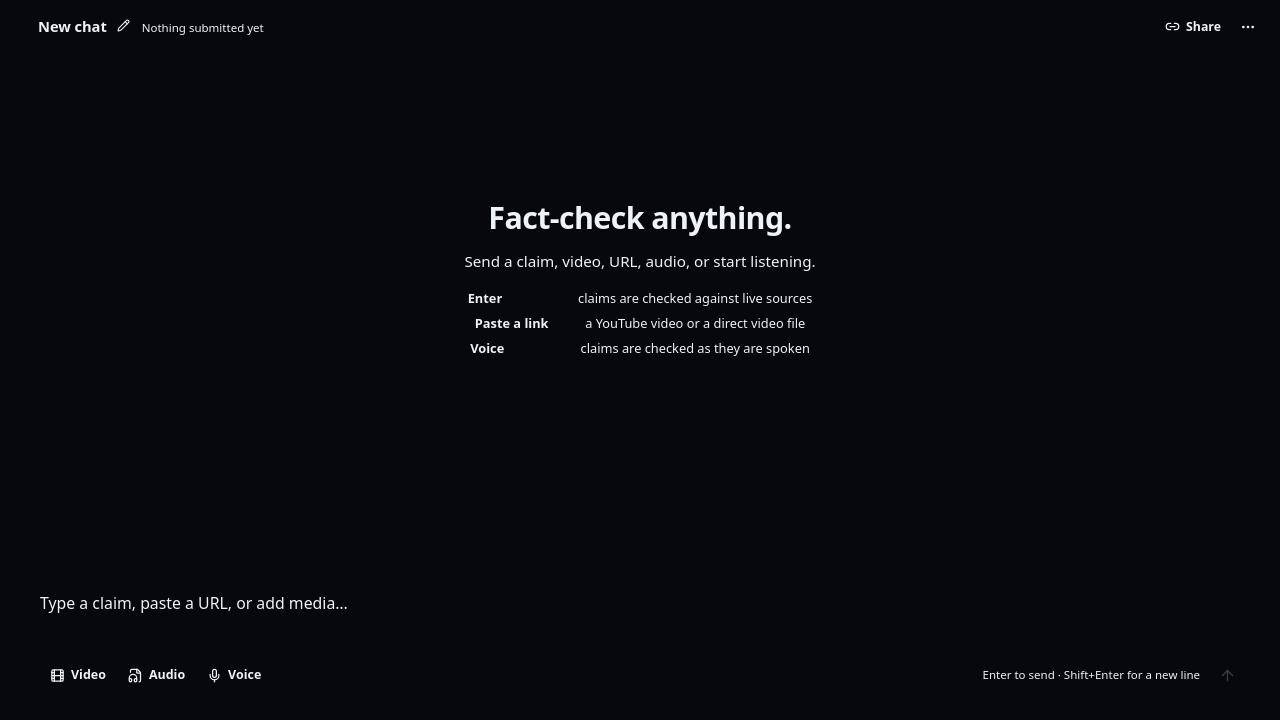
Test case: the conversation › lists the sources with their real links and provider scores
(page scrolled)
Type "India won the 2011 Cricket World Cup." into the text box at coordinates (642, 617), box top-left (40, 589), bottom-right (1244, 644)
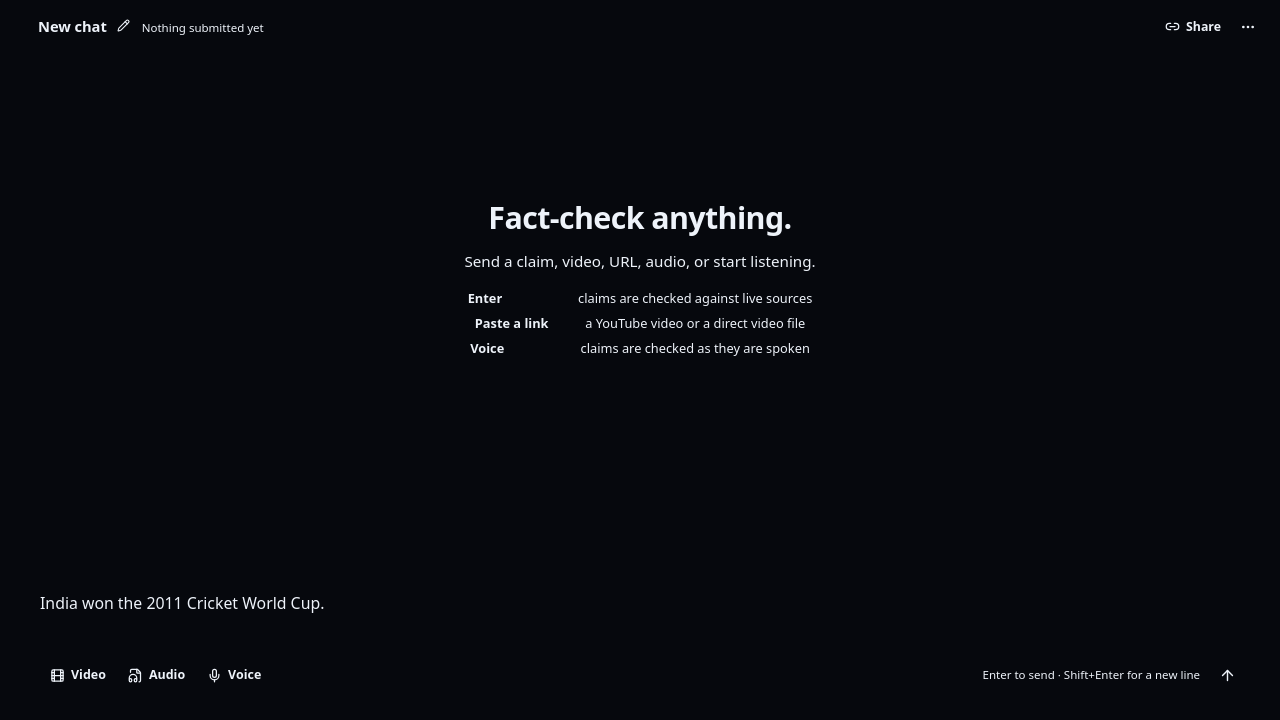
Click the button named "send" at coordinates (1227, 675), box top-left (1210, 658), bottom-right (1244, 692)
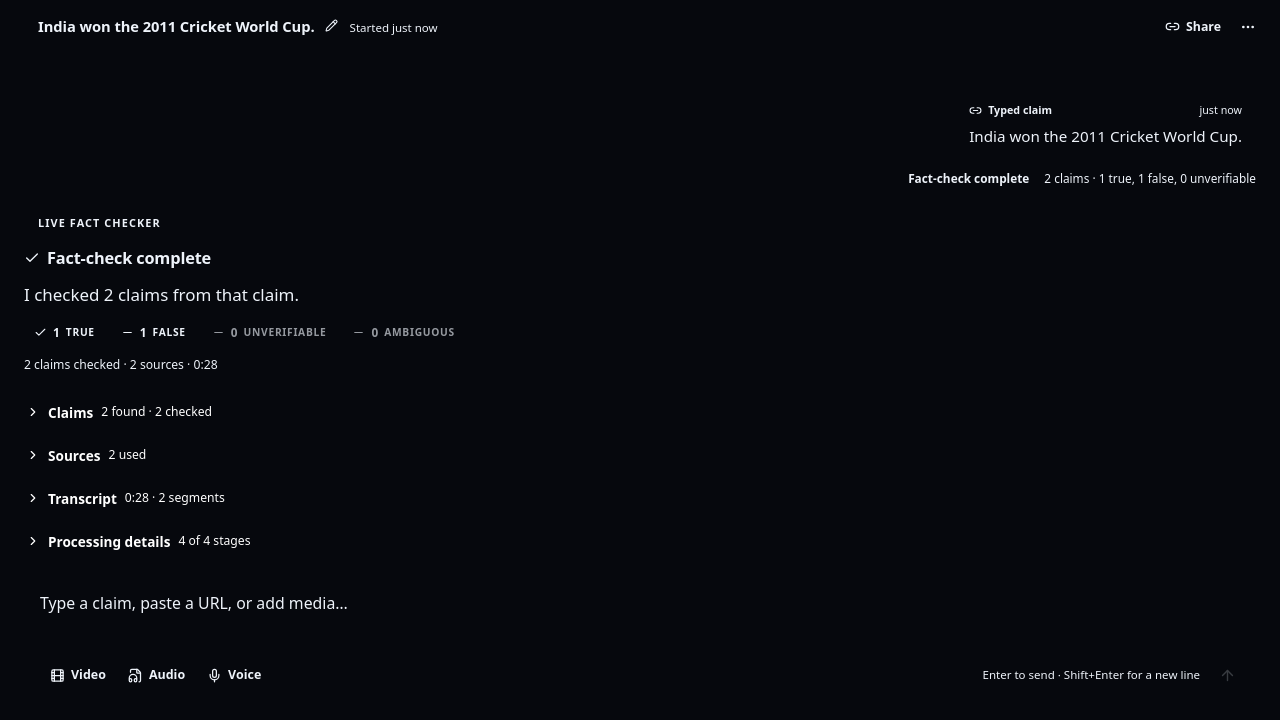
Click the button "Sources 2 used" at coordinates (74, 455), box top-left (24, 434), bottom-right (1256, 477)
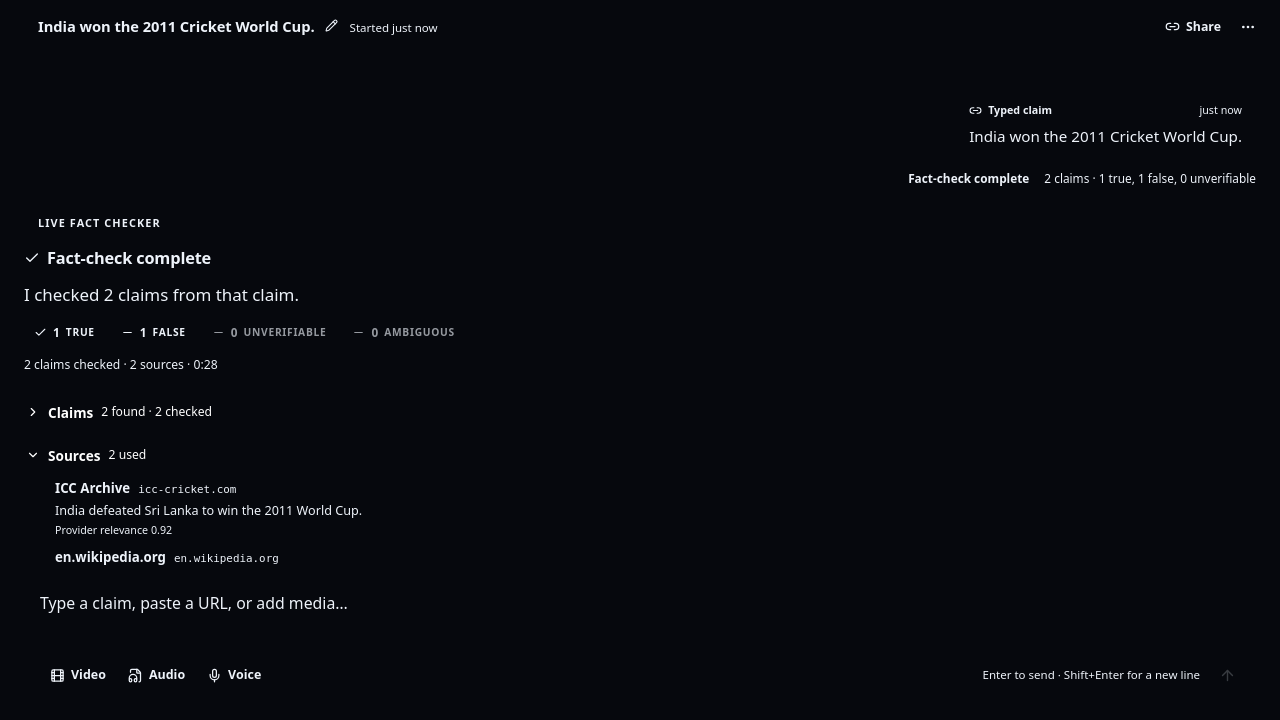
Now the text "icc-cricket.com" is shown, box top-left (138, 482), bottom-right (236, 498)
Now the text "Provider relevance 0.92" is shown 2 times
Now the text "India defeated Sri Lanka to win the 2011 World Cup." is shown, box top-left (55, 501), bottom-right (362, 519)
